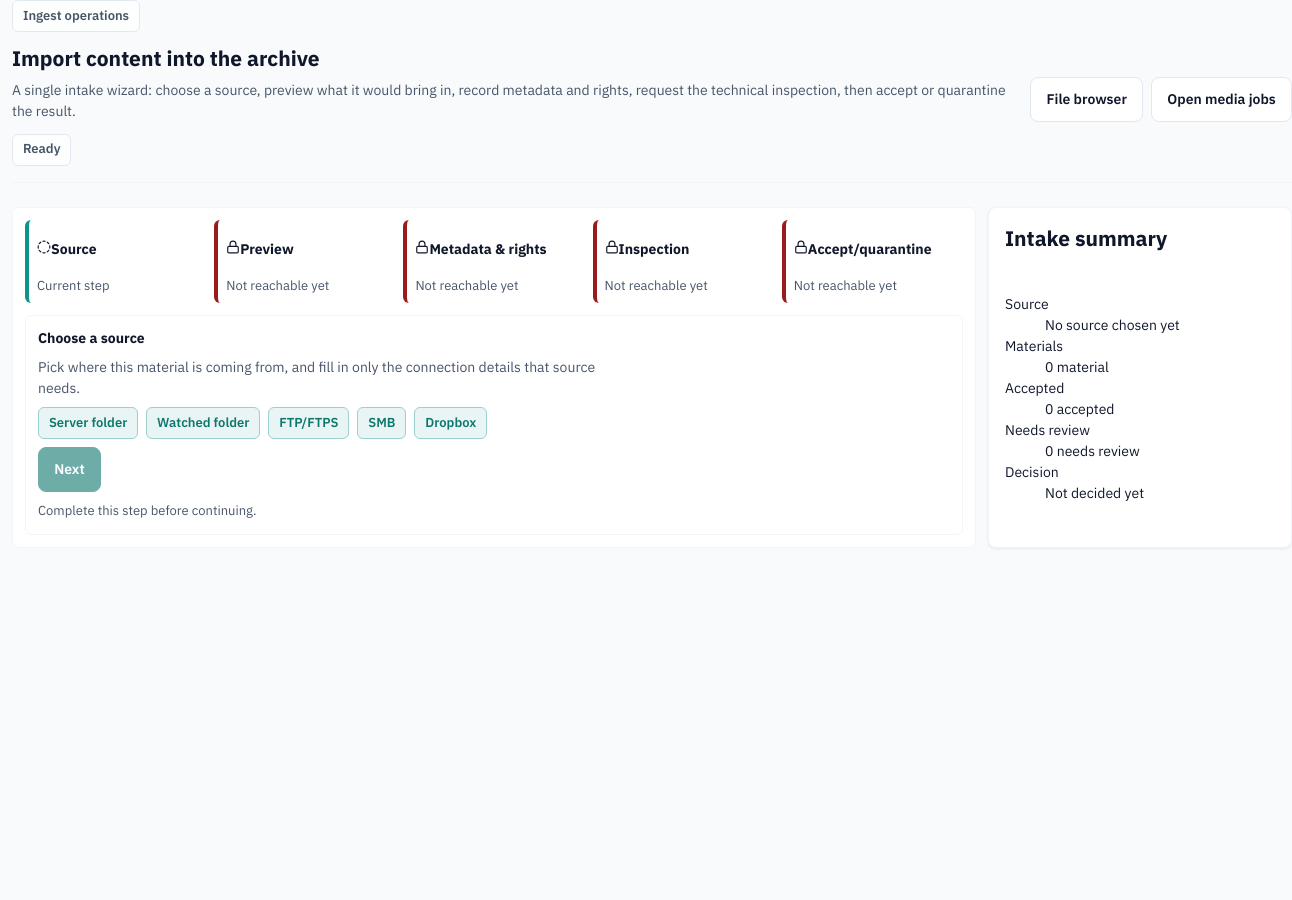
Test: ingest intake wizard › uses an explicit operation error state when an ingest scan fails
Click the button "Server folder". click: (88, 423)
box: [38, 407, 138, 439]
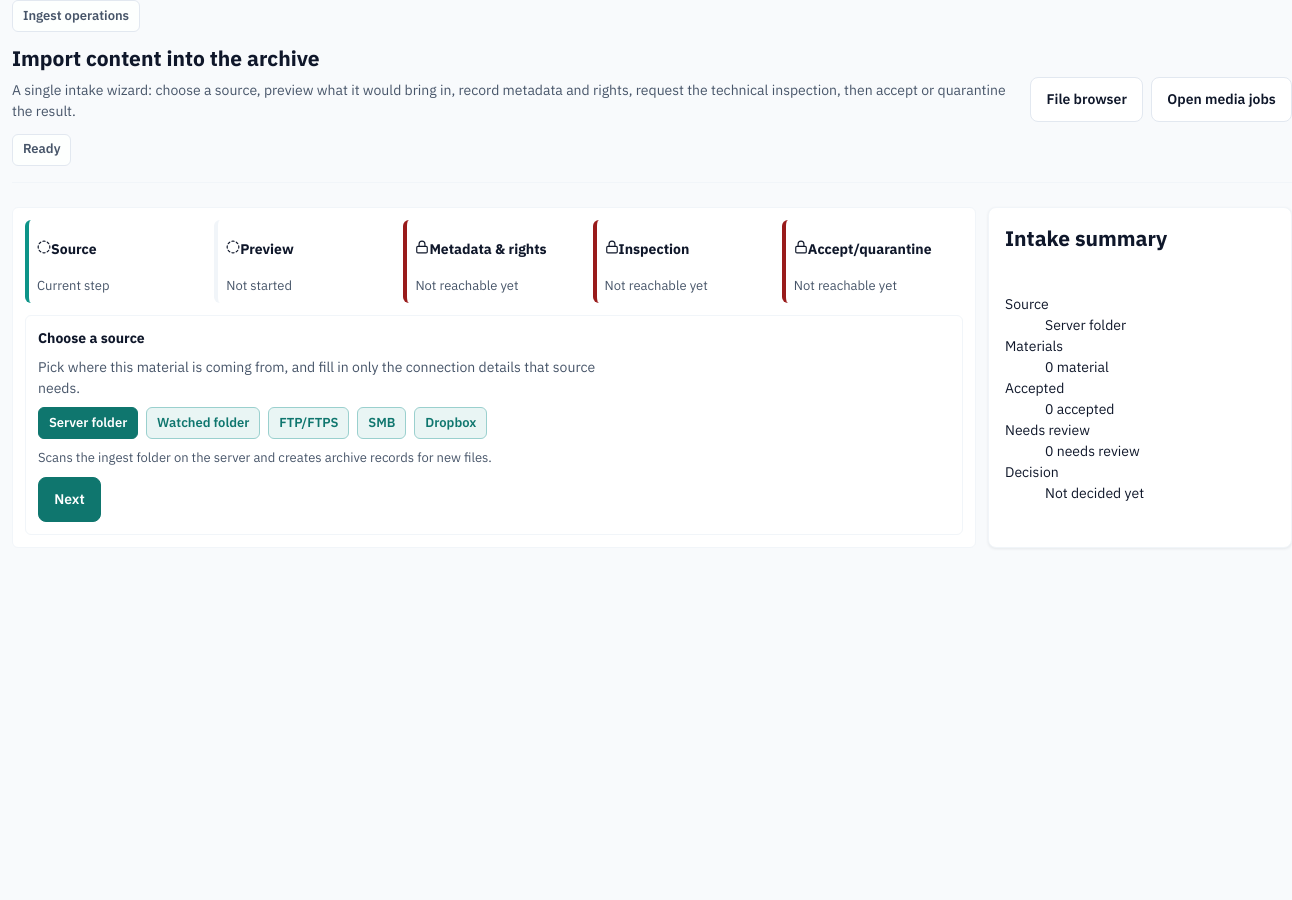
Click the button "Next". click: (69, 500)
box: [38, 477, 101, 522]
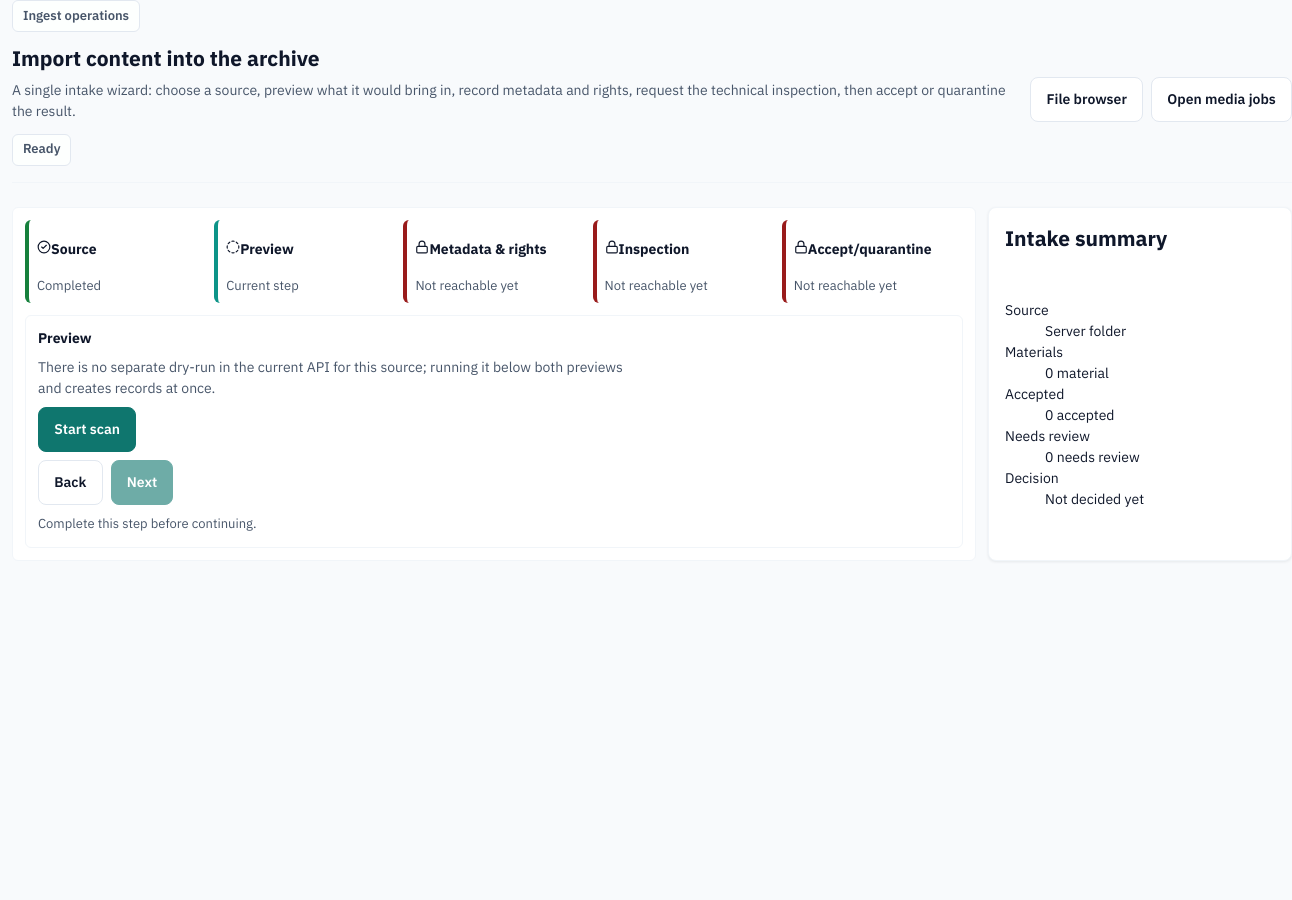
Click the button "Start scan". click: (87, 429)
box: [38, 407, 136, 452]
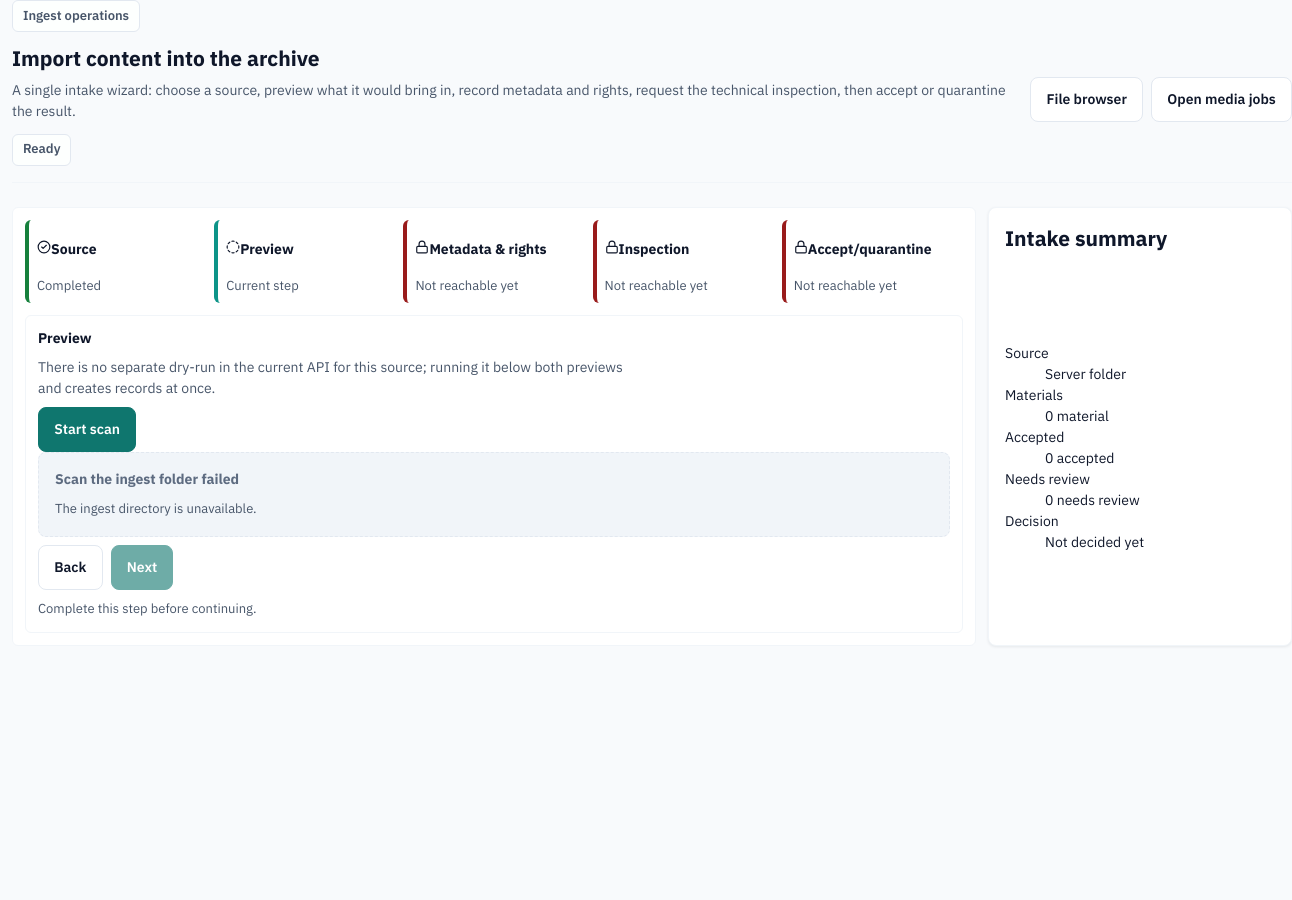
Check: the button "Next" is disabled, box [110, 545, 173, 590]
Check: the message "Scan the ingest folder failed The ingest directory is unavailable." is shown, box [38, 452, 950, 537]
